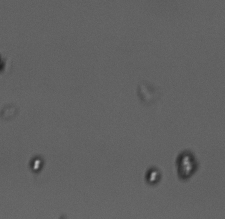Living Cell: (175, 149, 198, 179), (144, 165, 161, 184), (27, 155, 44, 173)
